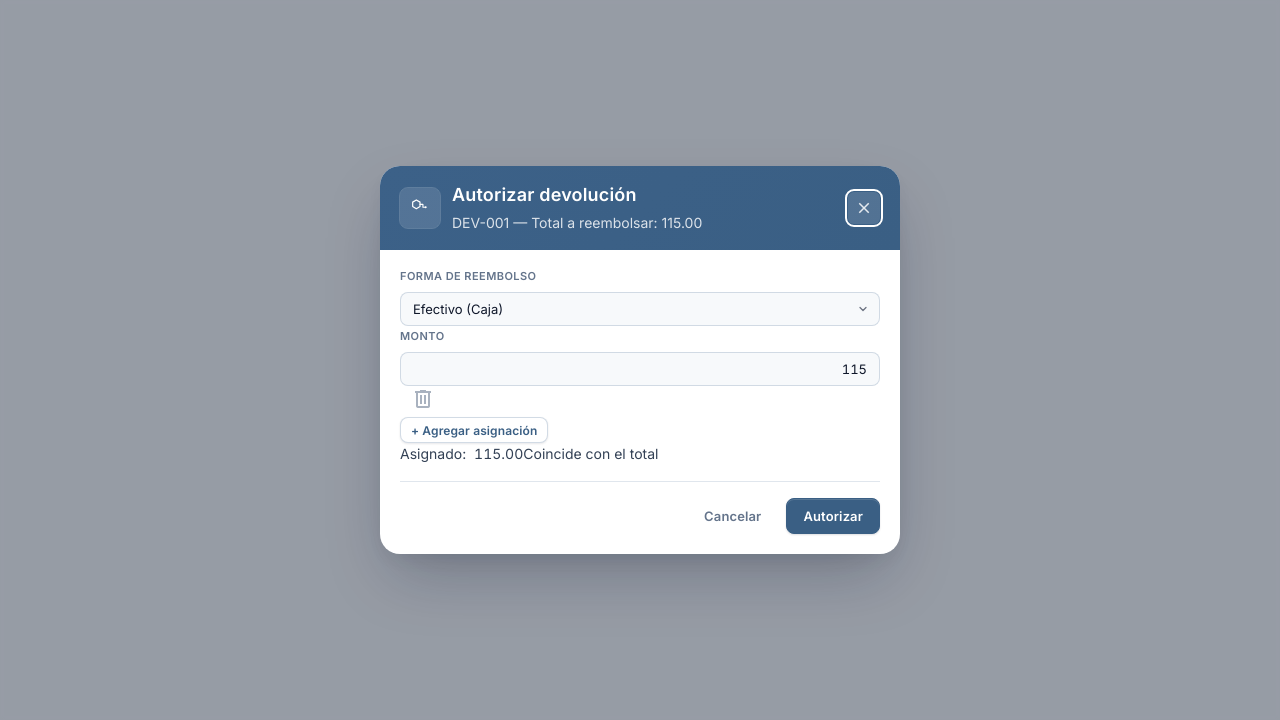
AuthorizeSalesReturnModal — resumen de asignación migrado a ZHMoneyValue (SALES-DS-MONEY-12) › reducir el monto asignado muestra Diferencia vía ZHMoneyValue
Replace the text in the field showing "115" with "50": (640,369) [400,352,880,386]
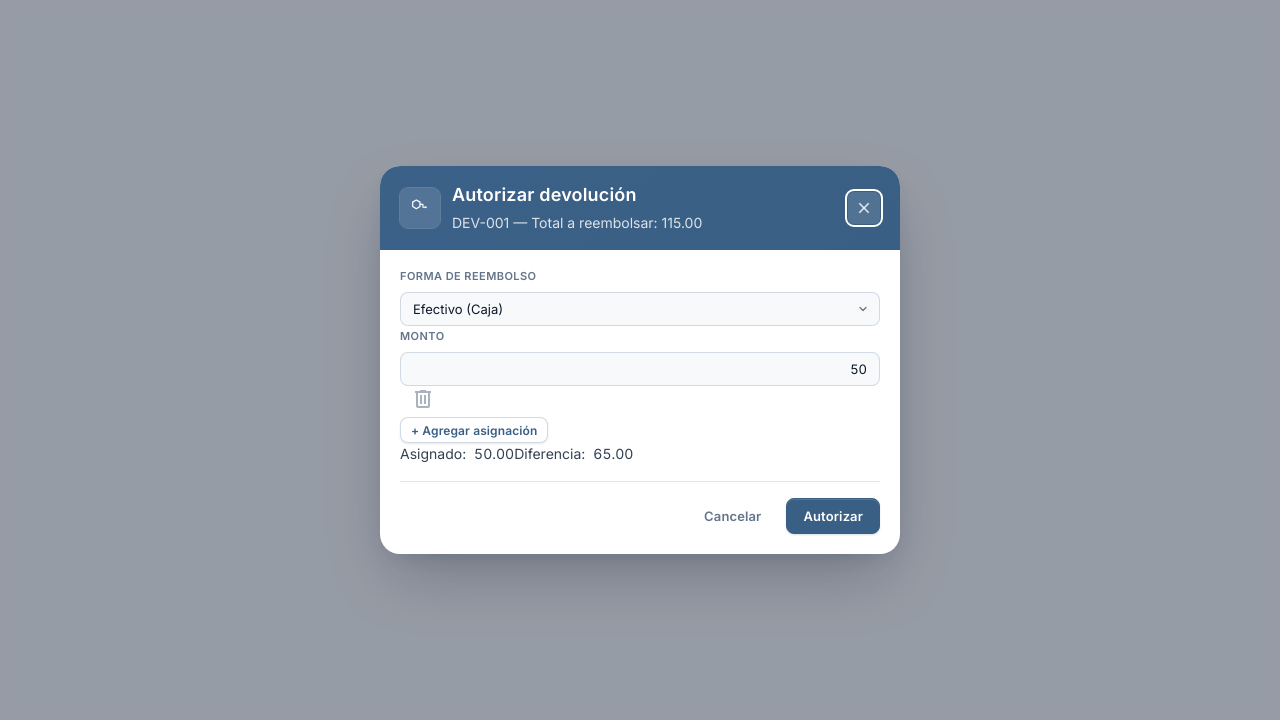
Result: the element with class "sr-refund-summary--pending" is shown at [514,445,633,462]
Result: the element with class "zh-money-value" showing "65.00" is shown at [589,443,633,465]
Result: the element with class "sr-refund-summary--pending" shows "Diferencia:" at [514,445,585,462]
